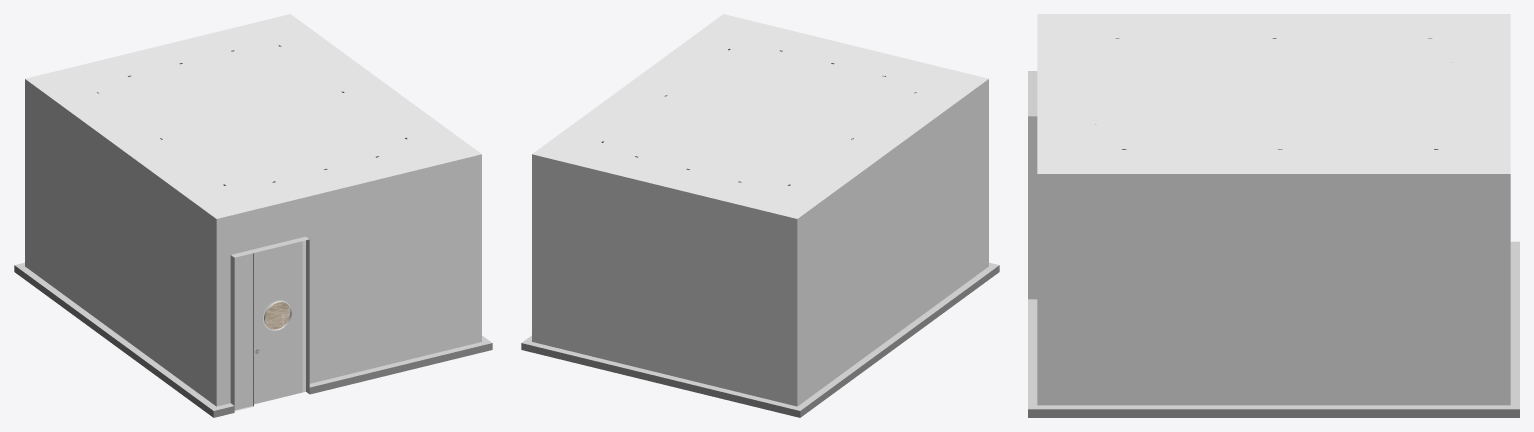
Rendered from overpass.gltf.
3 renders of one model, left to right at view 1: azimuth 30°, elevation 25°; view 2: azimuth 150°, elevation 25°; view 3: azimuth 270°, elevation 25°, orthographic. The views are drawn at different scales.
Visible parts, largest first — view 1: SketchUp, SketchUp.003, group_1.001, SketchUp.002, group_1.003, group_0, SketchUp.001; view 2: SketchUp, SketchUp.003, SketchUp.002; view 3: SketchUp, SketchUp.003, SketchUp.002.
Part boxes in pixels (x1=…): SketchUp: x1=14, y1=79, x2=491, y2=410; SketchUp.003: x1=25, y1=14, x2=481, y2=218; group_1.001: x1=253, y1=241, x2=302, y2=404; SketchUp.002: x1=14, y1=265, x2=492, y2=417; group_1.003: x1=234, y1=253, x2=252, y2=410; group_0: x1=302, y1=240, x2=305, y2=392; SketchUp.001: x1=265, y1=302, x2=290, y2=329; SketchUp: x1=522, y1=79, x2=999, y2=410; SketchUp.003: x1=532, y1=14, x2=988, y2=218; SketchUp.002: x1=521, y1=265, x2=999, y2=417; SketchUp: x1=1028, y1=71, x2=1519, y2=409; SketchUp.003: x1=1037, y1=14, x2=1510, y2=173; SketchUp.002: x1=1028, y1=409, x2=1519, y2=417.
Size of the model in its own units: 6.4 by 4.27 by 7.92.
Materials: 8 (2 with a texture image).
